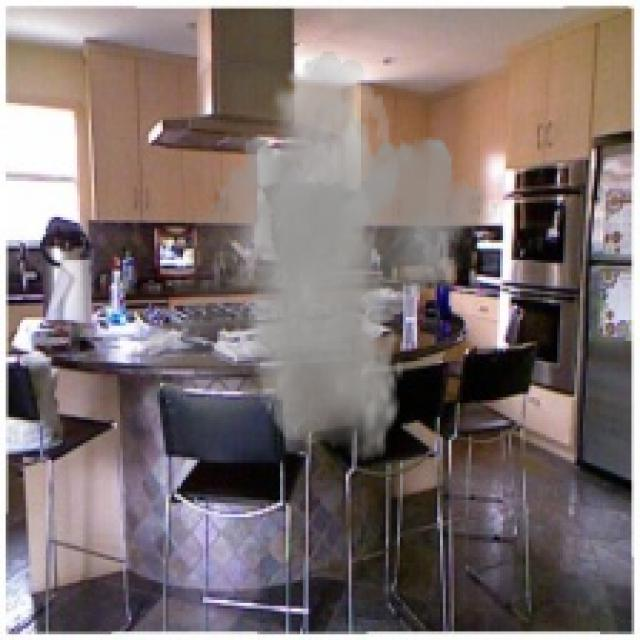smoke: (129, 51, 500, 463)
